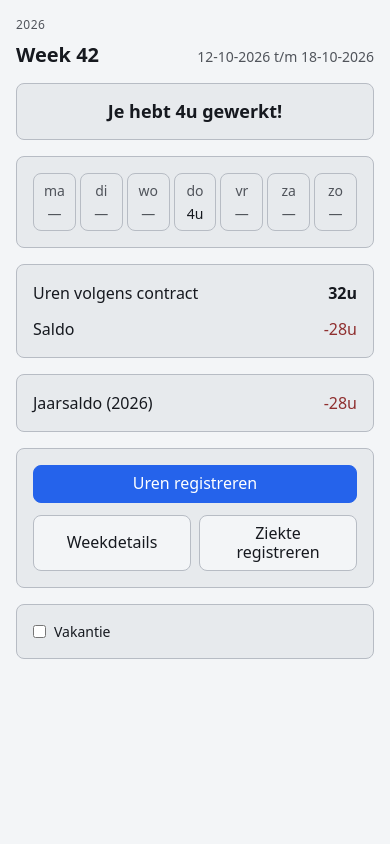
DashboardPage › weigert een registratie die overlapt met een bestaande registratie
Click the button "Uren registreren".
click(195, 484)  # box [33,464,357,502]
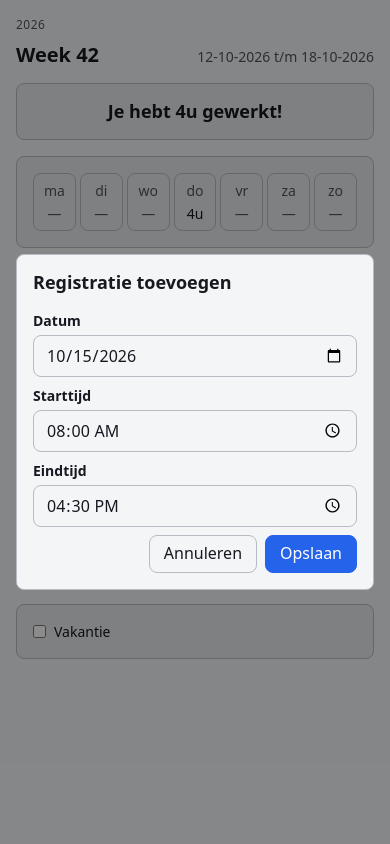
Replace the text in the time field with id "registration-start" with "10:00" at (195, 431), box [33,410,357,452]
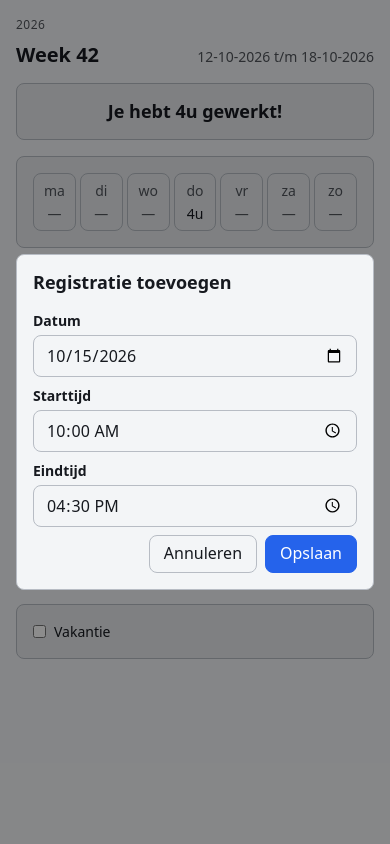
Replace the text in the time field with id "registration-end" with "15:00" at (195, 506), box [33,485,357,527]
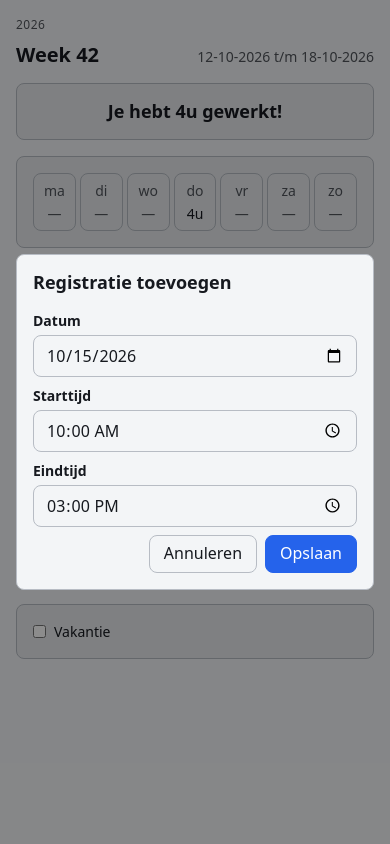
Submit the form, box [33,310,357,573]
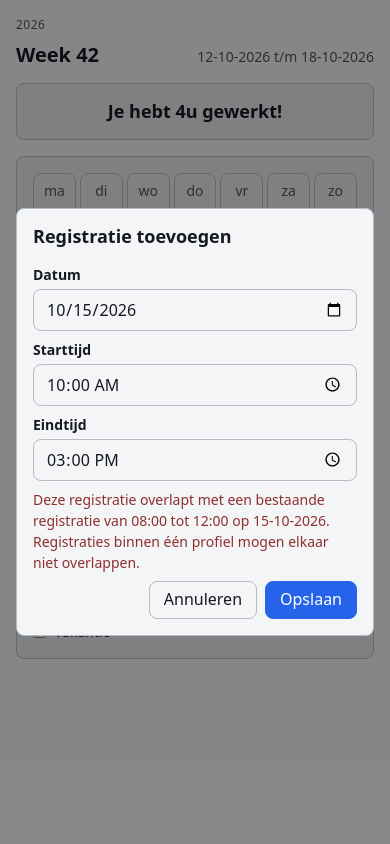
Expected: the text "overlapt met een bestaande registratie van 08:00 tot 12:00" is shown, [33,490,330,572]
